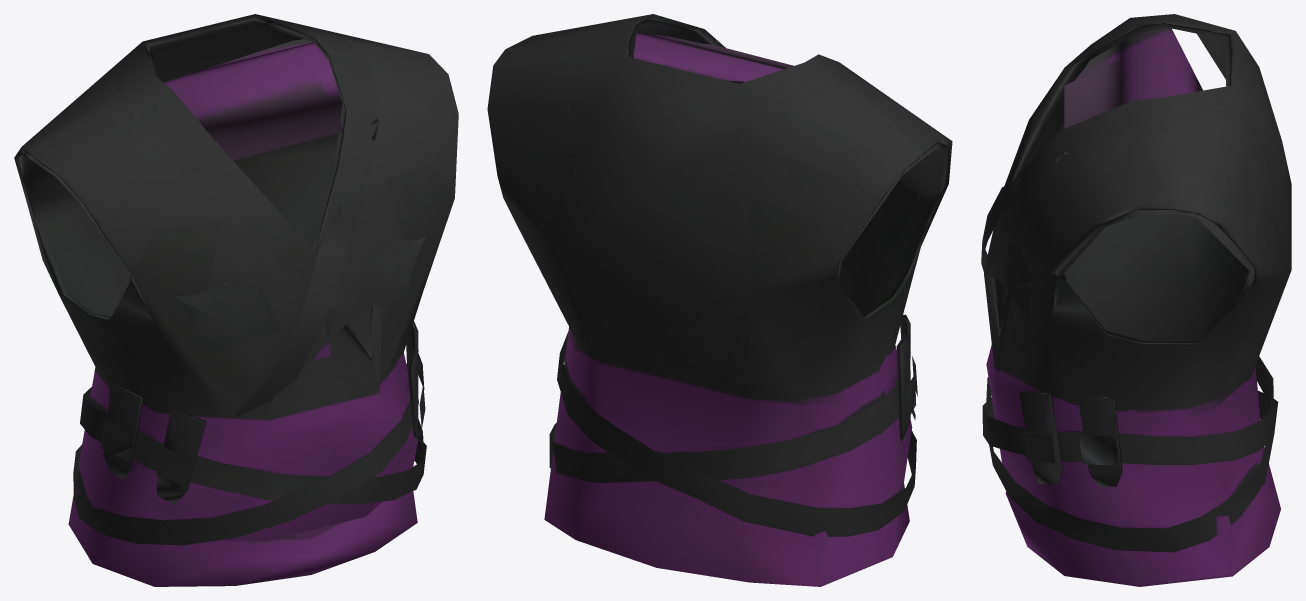
File: assassin_vest.glb
3 views of the same model, side by side, from view 1: azimuth 30°, elevation 25°; view 2: azimuth 150°, elevation 25°; view 3: azimuth 270°, elevation 25° (orthographic). The views are drawn at different scales.
Size of the model in its own units: 0.8501 by 0.9497 by 0.585.
Materials: 1 (1 with a texture image).
